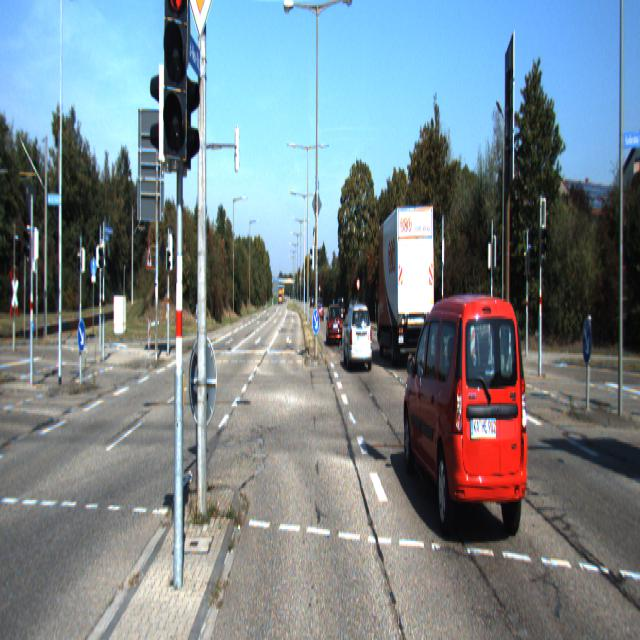Car: (402, 283, 532, 560), (374, 201, 436, 371), (456, 302, 499, 355), (343, 301, 373, 375), (327, 304, 342, 346)
